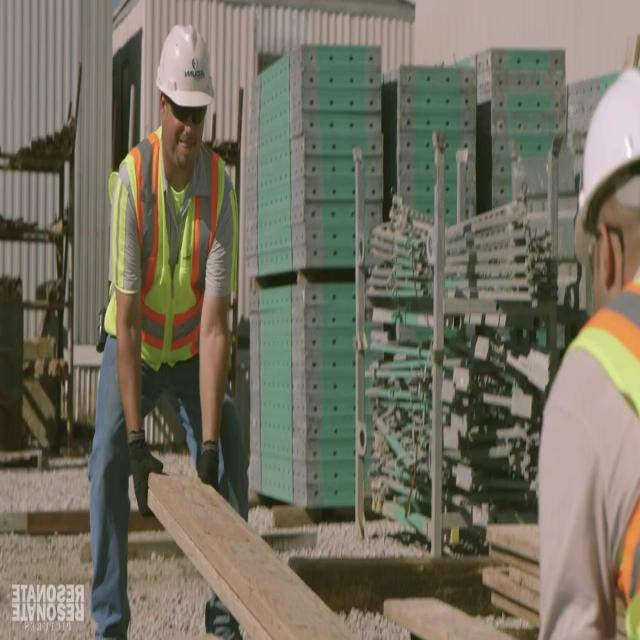Reflective-Jacket: (91, 132, 244, 390), (554, 291, 640, 639)
Safety-Helmet: (563, 56, 638, 238), (150, 15, 223, 125)
